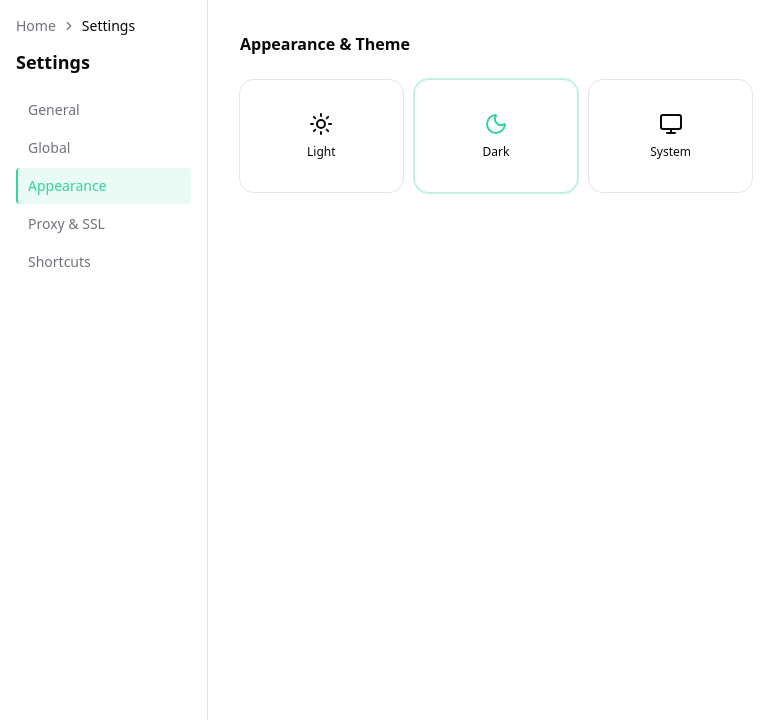
it: SettingsPage › switches section when nav buttons are clicked
Expected: the heading "Appearance & Theme" is shown, [240,33,410,55]
Click the button with test id "nav-general": (104, 110) [16,92,191,128]
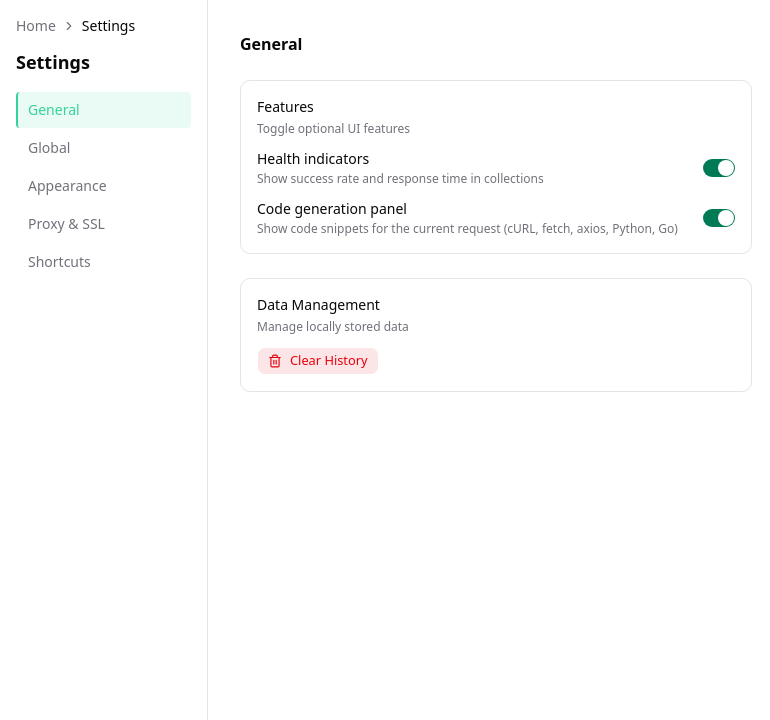
Result: the heading "General" is shown at [240,33,302,55]
Click the button with test id "nav-proxy": (104, 224) [16,206,191,242]
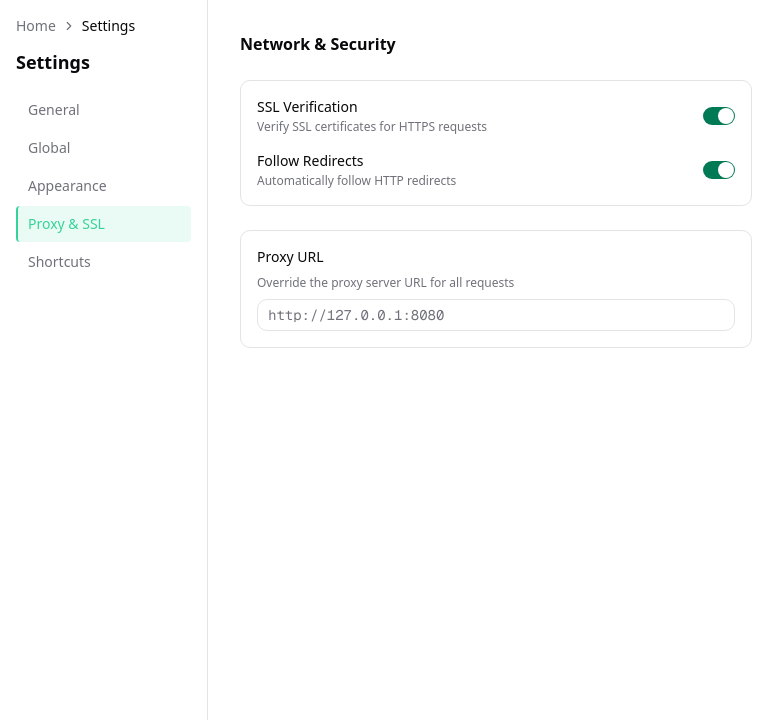
Result: the heading "Network & Security" is shown at [240,33,396,55]
Click the button with test id "nav-shortcuts": (104, 262) [16,244,191,280]
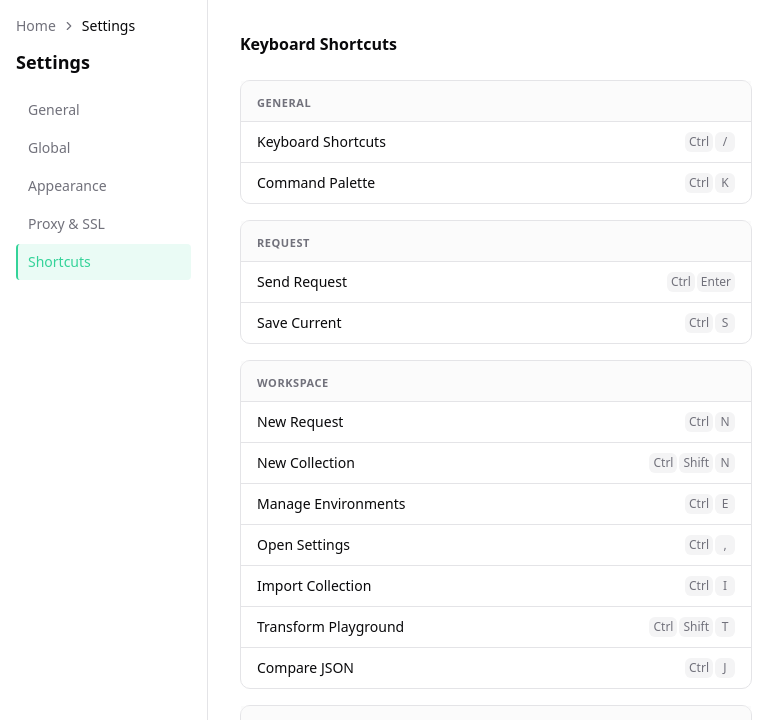
Result: the heading "Keyboard Shortcuts" is shown at [240,33,397,55]
